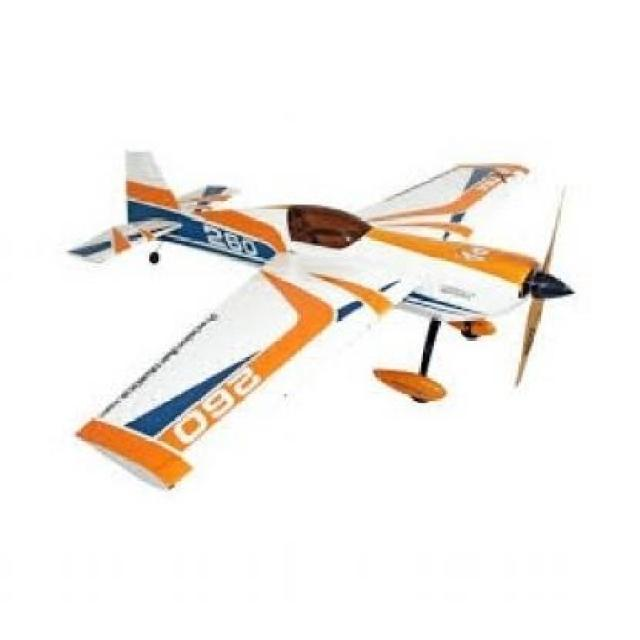iha: (62, 119, 578, 495)
